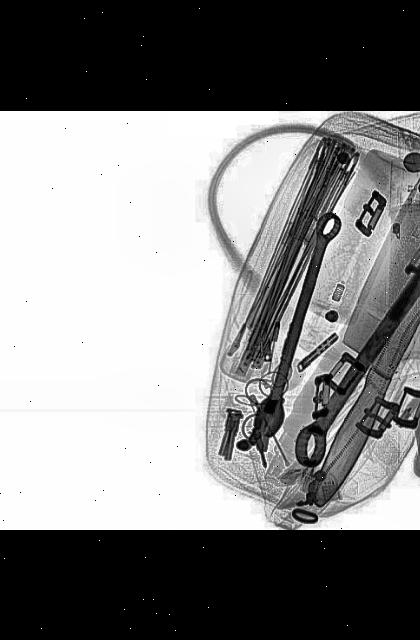Knife: (269, 169, 420, 510)
Wrench: (269, 197, 420, 470), (248, 210, 346, 440)
